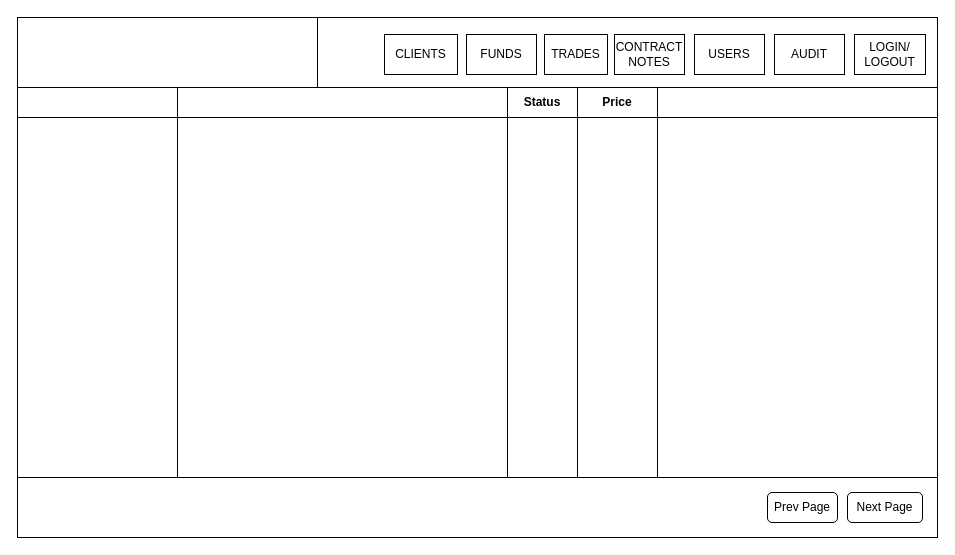
Some shapes in this 955 by 555 pixel diagram are drawn without their labels. The shapes that lost their labels are listed below. From the top down, each one's centre as x and y in pixels, then its label:
At [167,52]: "FUND BROKER: FUND SEARCH".
At [97,102]: "ISIN".
At [342,102]: "Name".
At [797,102]: "Fund Manager".
